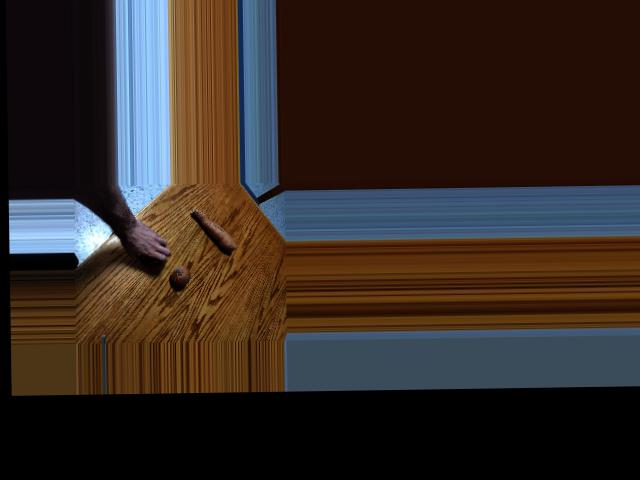onion: (143, 250, 164, 269)
